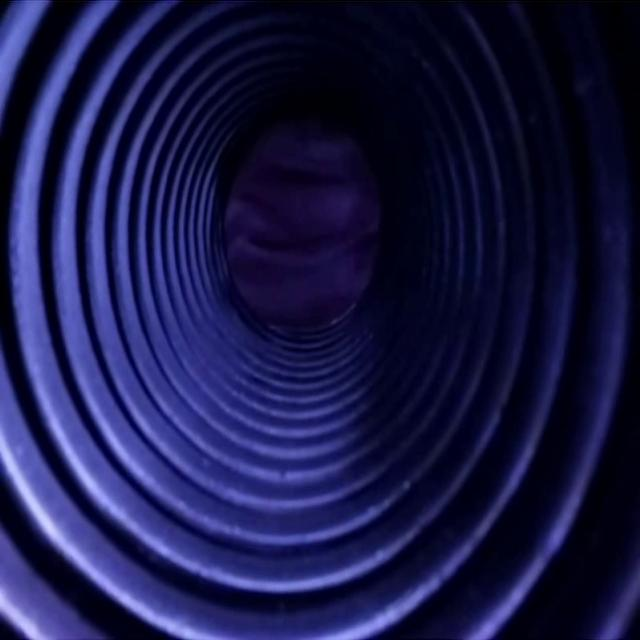block: (218, 112, 380, 341)
